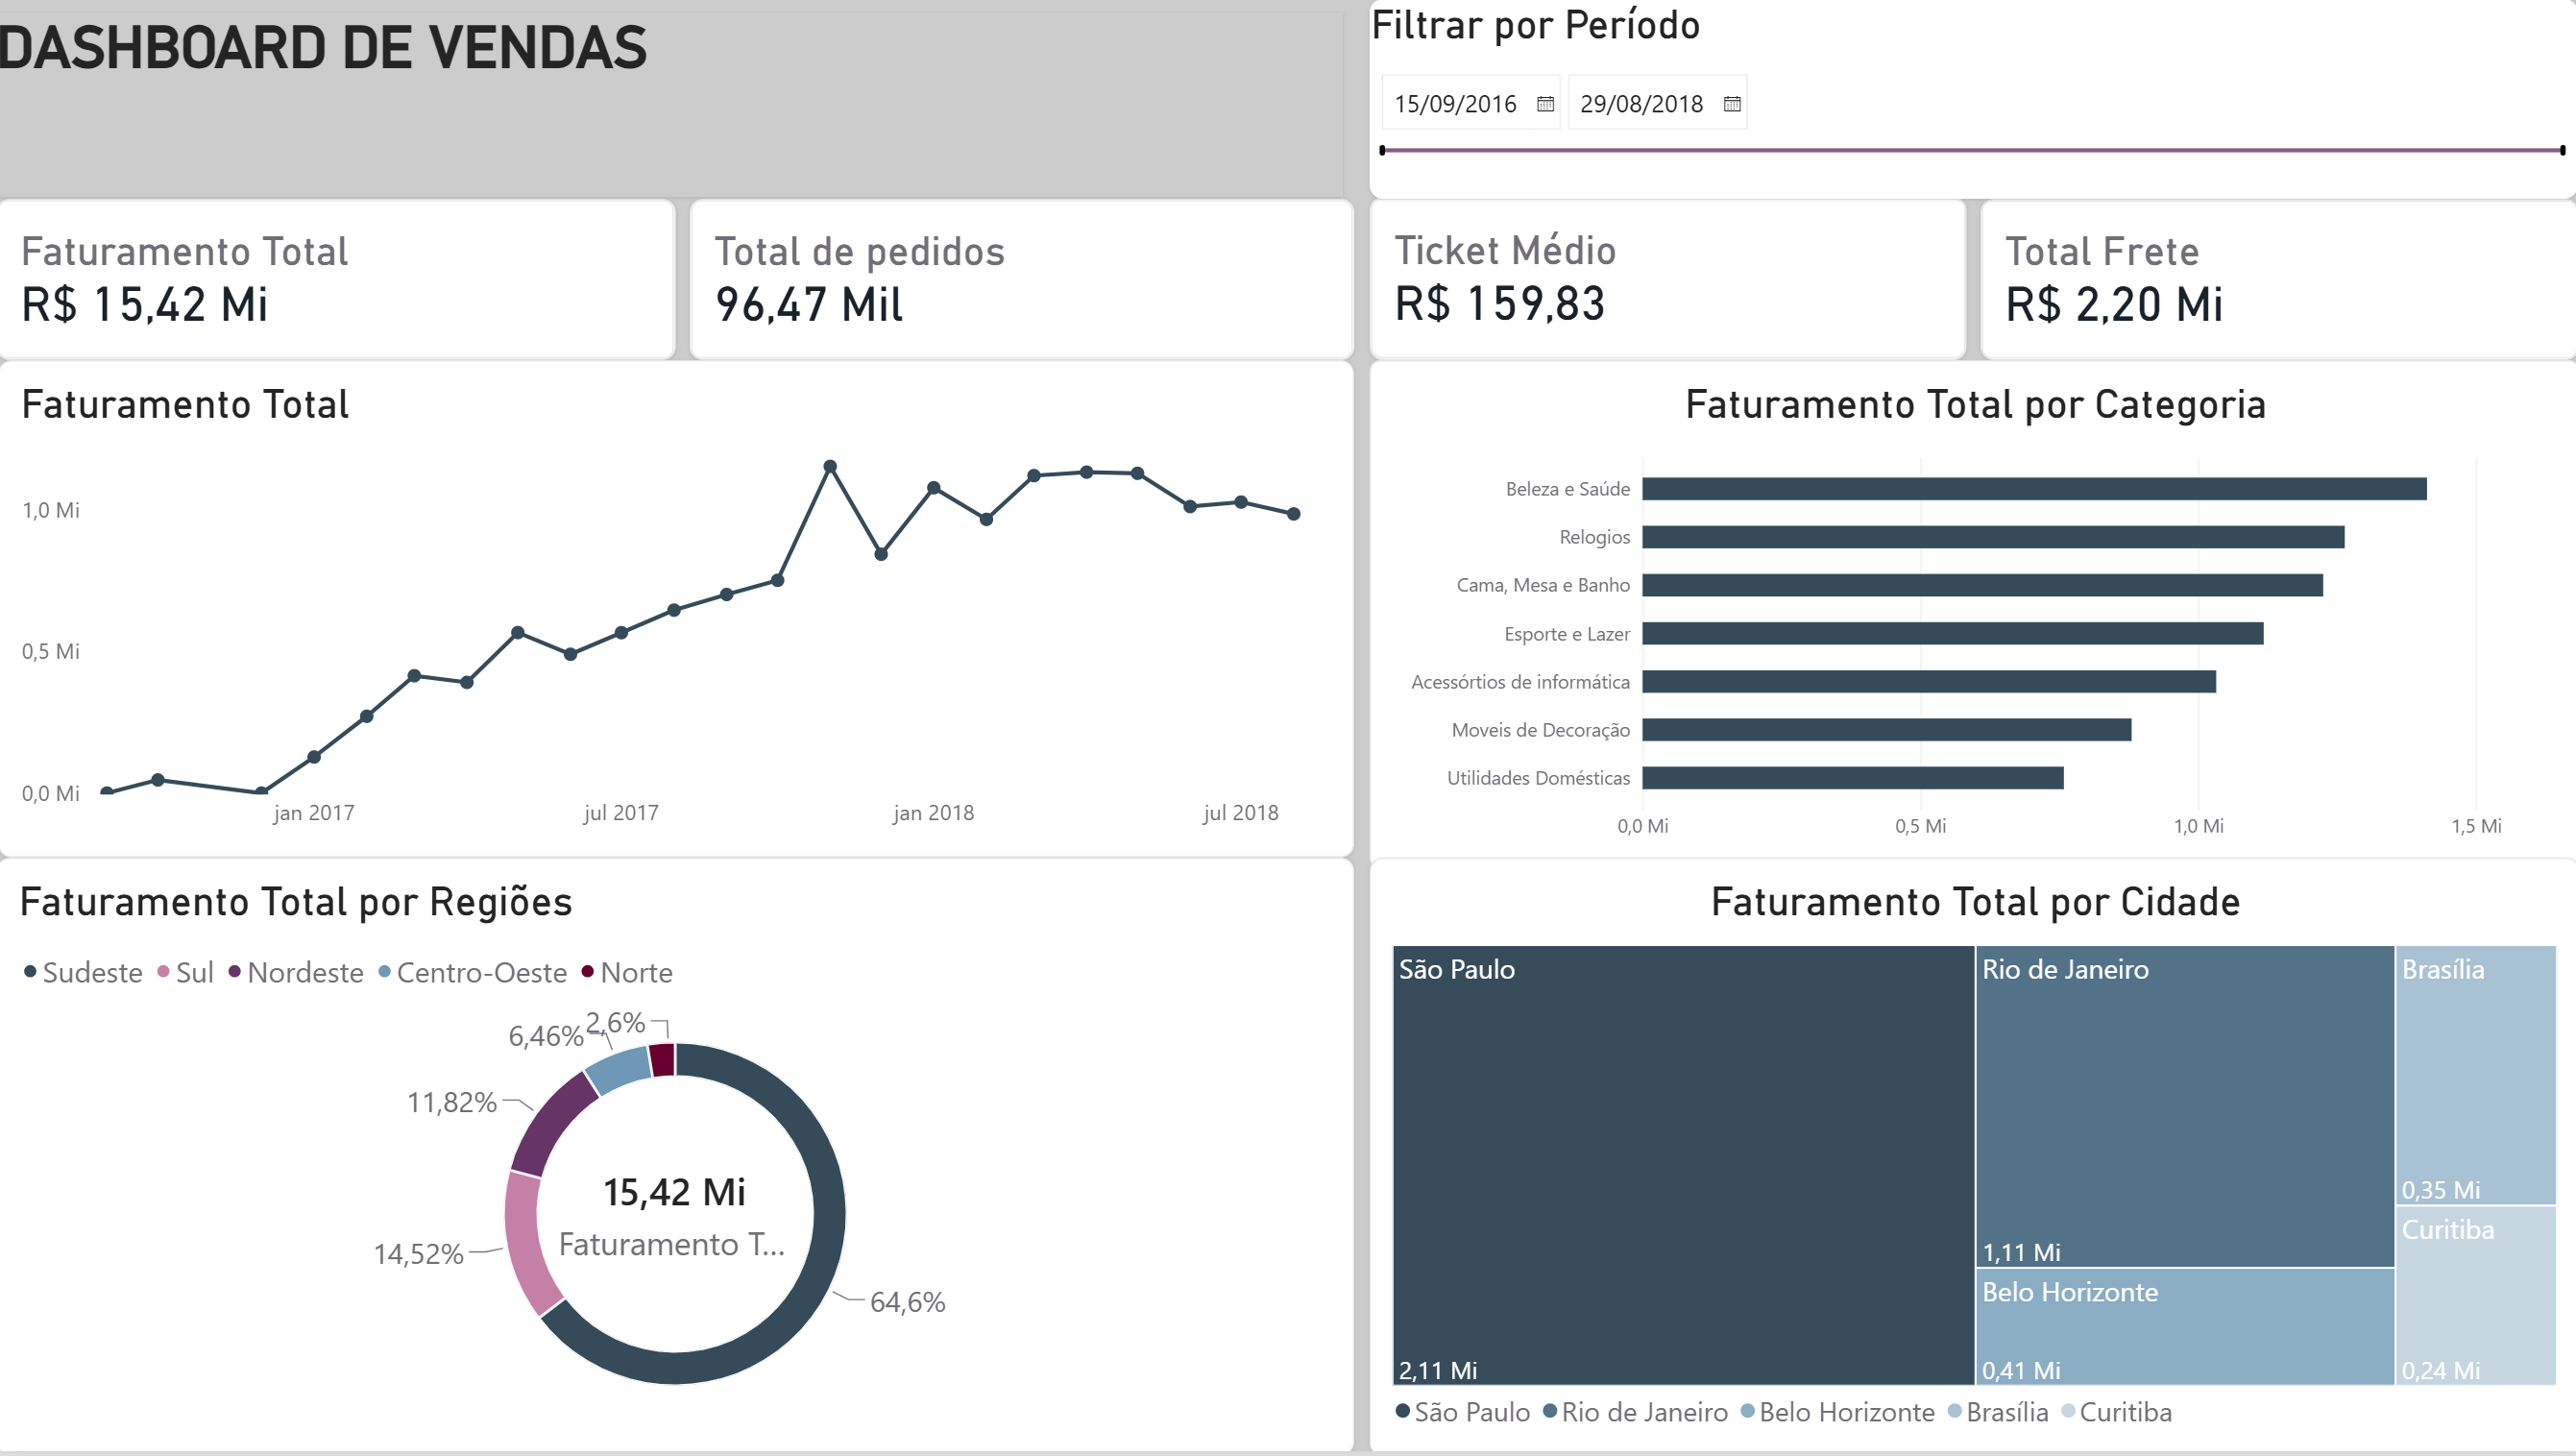

What the dashboard file says about the page in this screenshot:
{"tool":"powerbi","page":{"name":"Página 1","canvas":[1920,1080],"ordinal":0},"visuals":[{"type":"cardVisual","fields":{"Data":["public vw_vendas_completa.Faturamento Total"]},"box":[0,148.6,505.7,120],"z":0},{"type":"cardVisual","fields":{"Data":["public vw_vendas_completa.Total de pedidos"]},"box":[516.3,148.6,494.3,120],"z":1000},{"type":"cardVisual","fields":{"Data":["public vw_vendas_completa.Tiecket Médio"]},"box":[1021.1,147.1,444,121.4],"z":2000},{"type":"cardVisual","fields":{"Data":["public vw_vendas_completa.Total Frete"]},"box":[1475,148.6,445,120],"z":3000},{"type":"lineChart","title":"Faturamento Total ","fields":{"Category":["public vw_vendas_completa.data_compra.Variation.Hierarquia de datas.Ano","public vw_vendas_completa.data_compra.Variation.Hierarquia de datas.Mês"],"Y":["Medidas.Faturamento Total"]},"box":[1.4,268.6,1008.6,370],"z":4000},{"type":"clusteredBarChart","title":"Faturamento Total por Categoria","fields":{"Category":["public vw_vendas_completa.categoria_produto"],"Y":["Medidas.Faturamento Total"]},"box":[1021.4,268.6,900,378.6],"z":5000},{"type":"donutChart","title":"Faturamento Total por Regiões","fields":{"Category":["public vw_vendas_completa.uf_cliente (grupos)"],"Y":["Medidas.Faturamento Total"]},"box":[0,638.6,1010,444.3],"z":6000},{"type":"slicer","title":"Filtrar por Período","fields":{"Values":["public vw_vendas_completa.data_compra"]},"box":[1021.4,0,898.6,148.6],"z":7000},{"type":"treemap","title":"Faturamento Total por Cidade","fields":{"Group":["public vw_vendas_completa.cidade_cliente"],"Values":["Medidas.Faturamento Total"]},"box":[1021.4,638.6,900,445.7],"z":8000},{"type":"textbox","box":[0,10,1001.4,137.1],"z":9000}]}

Visuals, with their boxes in screenshot pixels (x1, y1, x2, y2), scaled from the page's 1920x1080 canvas onto the 2576x1456 screenshot:
cardVisual - public vw_vendas_completa.Faturamento Total: <box>0,201,678,362</box>
cardVisual - public vw_vendas_completa.Total de pedidos: <box>693,201,1356,362</box>
cardVisual - public vw_vendas_completa.Tiecket Médio: <box>1370,198,1966,362</box>
cardVisual - public vw_vendas_completa.Total Frete: <box>1979,201,2575,362</box>
"Faturamento Total " lineChart: <box>2,362,1355,861</box>
"Faturamento Total por Categoria" clusteredBarChart: <box>1371,362,2575,872</box>
"Faturamento Total por Regiões" donutChart: <box>0,861,1355,1455</box>
"Filtrar por Período" slicer: <box>1371,0,2575,201</box>
"Faturamento Total por Cidade" treemap: <box>1371,861,2575,1455</box>
textbox: <box>0,13,1344,198</box>
